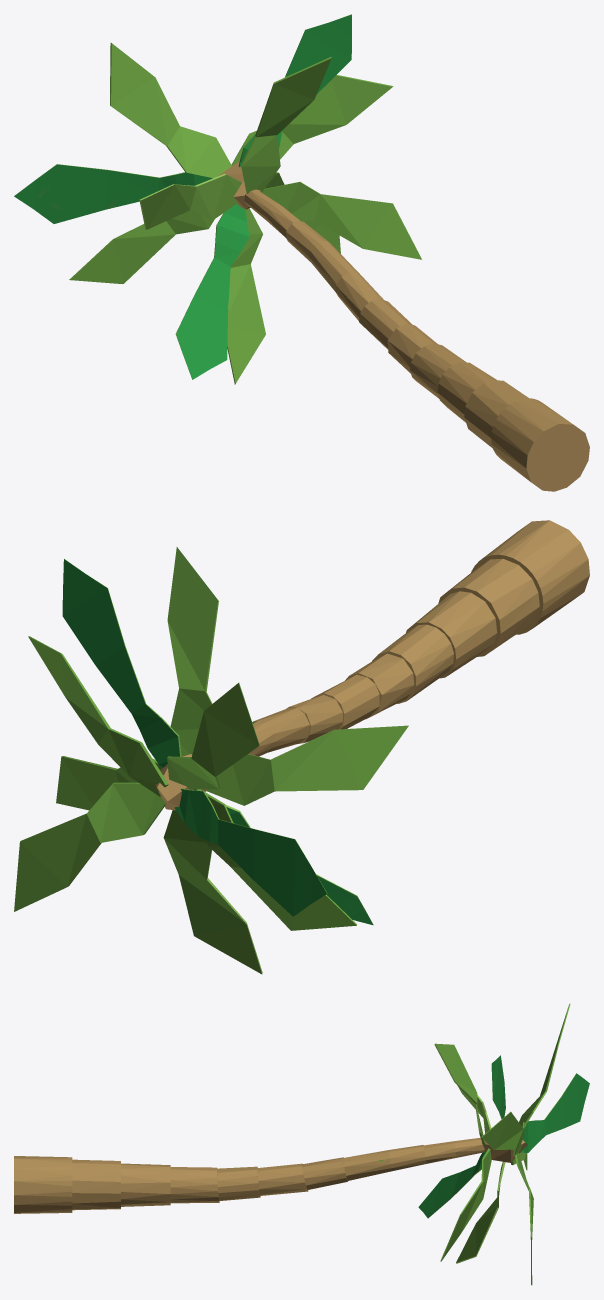
Rendered from palma1_brush.dae.
The picture shows the model from 3 angles, top to bottom: view 1: azimuth 30°, elevation 25°; view 2: azimuth 150°, elevation 25°; view 3: azimuth 270°, elevation 25°; orthographic projection. The views are drawn at different scales.
Visible parts, largest first — view 1: palm; view 2: palm; view 3: palm.
Part boxes in pixels (bbox=[...]): palm: bbox=[14, 14, 589, 491]; palm: bbox=[14, 520, 589, 974]; palm: bbox=[14, 1003, 589, 1285].
Size of the model in its own units: 4.17 by 8.33 by 4.06.
Materials: 1 (1 with a texture image).
